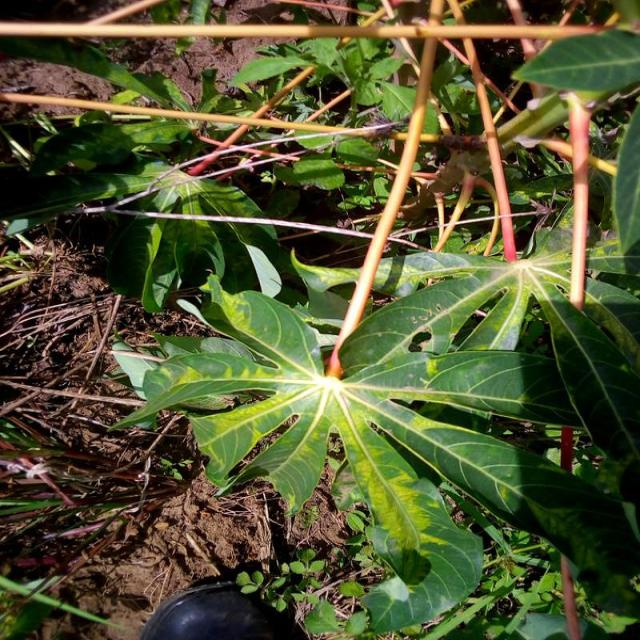cassava leaf: (108, 244, 638, 632)
